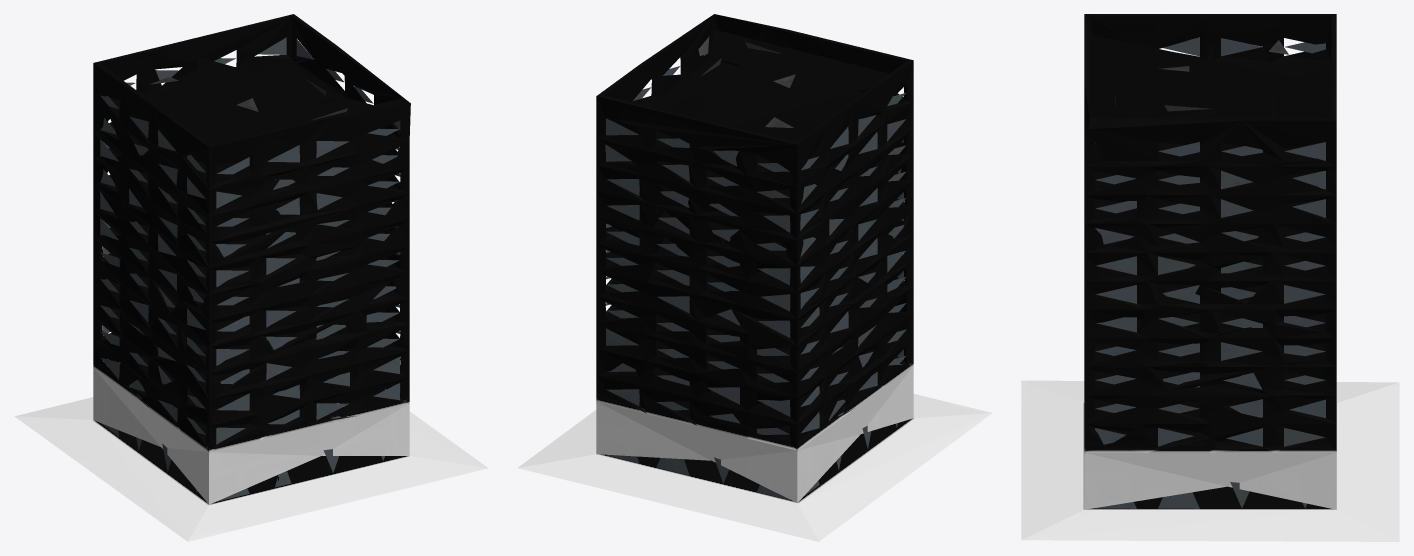
Rendered from black_glass_14_lod1.glb.
3 renders of one model, left to right at view 1: azimuth 30°, elevation 25°; view 2: azimuth 150°, elevation 25°; view 3: azimuth 270°, elevation 25°, orthographic. The views are drawn at different scales.
Visible parts, largest first — view 1: black_glass_14; view 2: black_glass_14; view 3: black_glass_14.
Boxes of the visible parts, bbox=[...] form: black_glass_14: bbox=[14, 14, 487, 541]; black_glass_14: bbox=[517, 14, 992, 541]; black_glass_14: bbox=[1021, 14, 1399, 541].
Bounding box in the file's own units: 43.2 × 50.21 × 43.2.
Materials: 1 (1 with a texture image).
